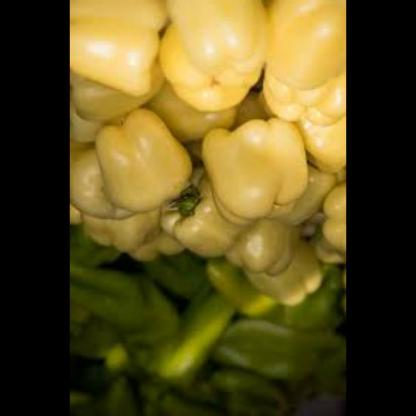bell pepper: (69, 0, 346, 297), (69, 261, 342, 416)
